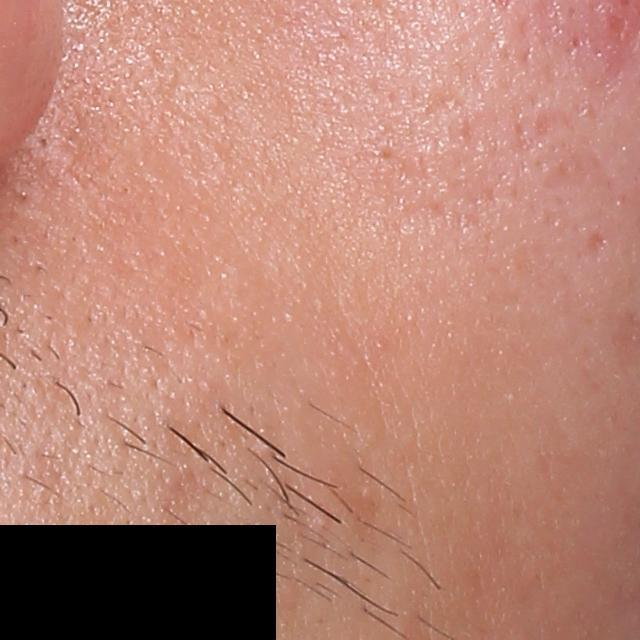atrophic_scar: (575, 223, 610, 264)
